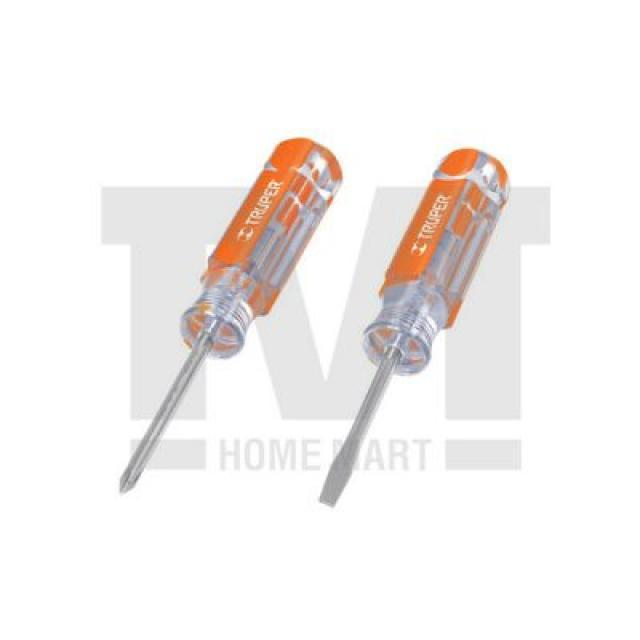screwdriver: (104, 135, 347, 502), (310, 142, 512, 508)
